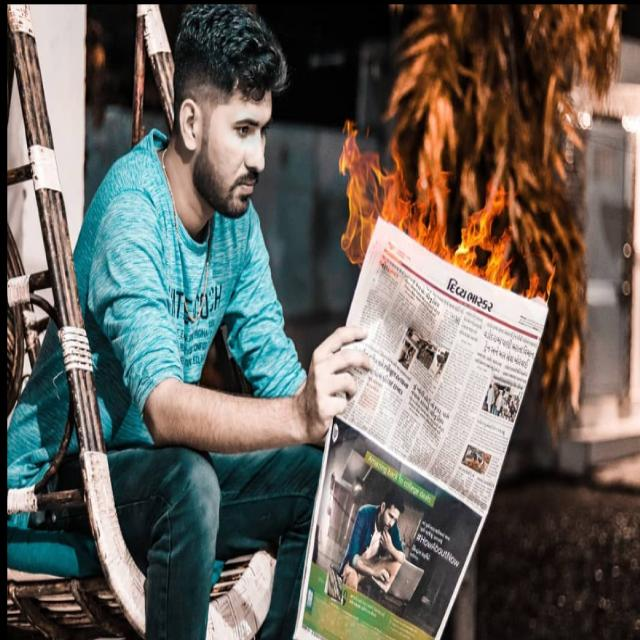fire: (338, 120, 450, 270), (449, 180, 555, 306)
